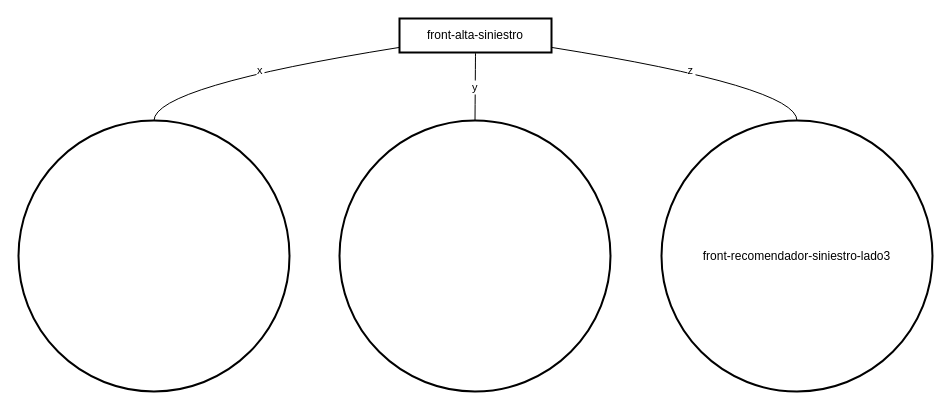
This 950x409 diagram has some shape labels left out. The centre of each missing label's shape, as x and y in pixels:
"front-recomendador-siniestro-lado1" belongs at (153,255).
"front-recomendador-siniestro-lado2" belongs at (474,255).
